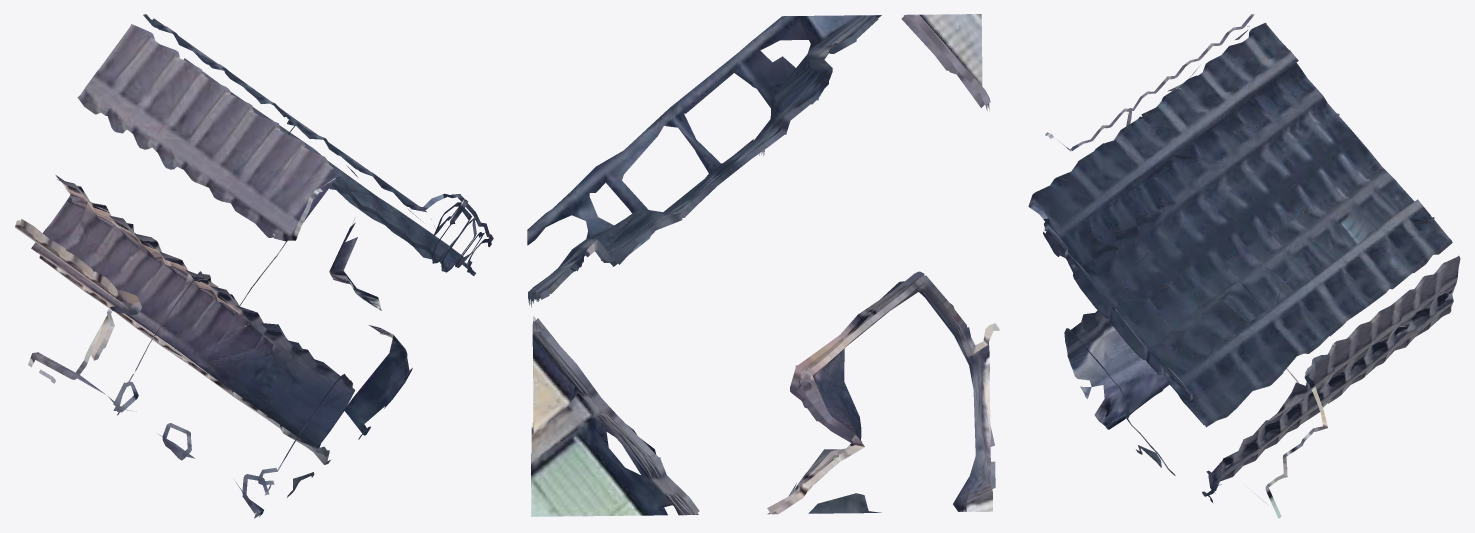
3 renders of one model, left to right at view 1: azimuth 30°, elevation 25°; view 2: azimuth 150°, elevation 25°; view 3: azimuth 270°, elevation 25°, orthographic. The views are drawn at different scales.
Bounding box in the file's own units: 49.08 × 50.38 × 49.45.
Materials: 1 (1 with a texture image).
